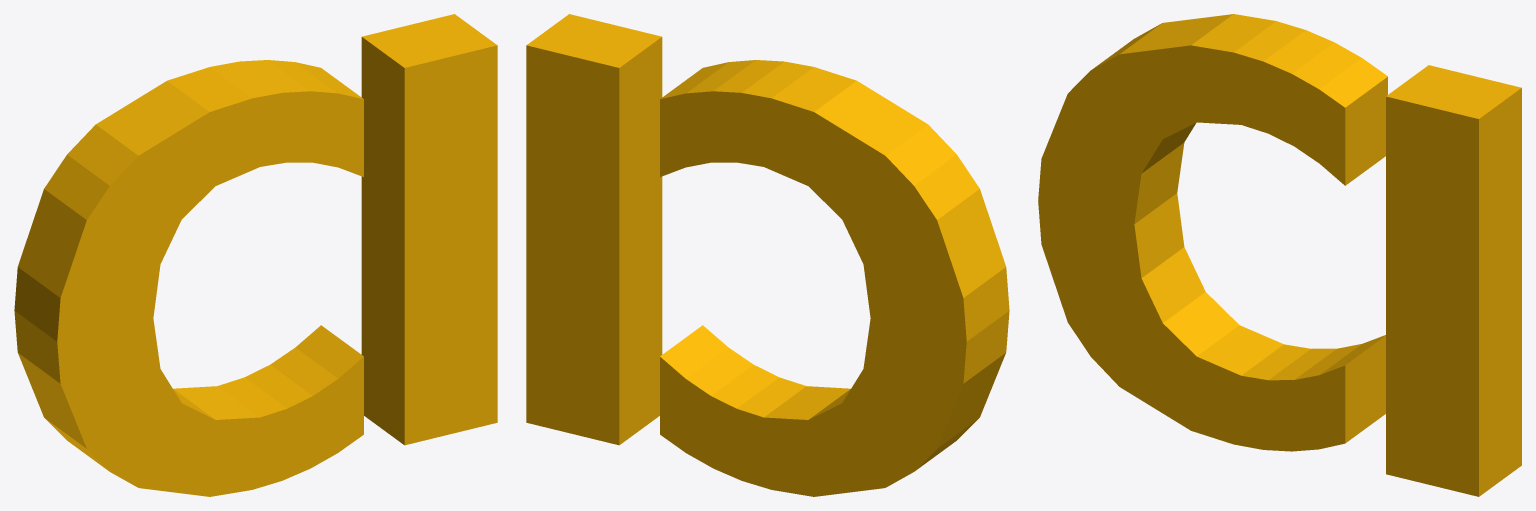
Rendered from suku_besar_ci.glb.
3 views of the same model, side by side, from view 1: azimuth 30°, elevation 25°; view 2: azimuth 150°, elevation 25°; view 3: azimuth 330°, elevation 25° (orthographic).
Visible parts, largest first — view 1: geometry_0; view 2: geometry_0; view 3: geometry_0.
Boxes of the visible parts, box(x1,y1,x2,y2) form: geometry_0: box(14, 14, 497, 496); geometry_0: box(526, 14, 1009, 496); geometry_0: box(1038, 14, 1521, 496).
Size of the model in its own units: 8.9 by 7.56 by 1.5.
